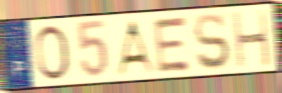5: (74, 17, 111, 81)
A: (115, 19, 155, 76)
E: (152, 15, 193, 75)
H: (231, 8, 273, 70)
O: (33, 23, 73, 83)
S: (192, 12, 232, 72)
